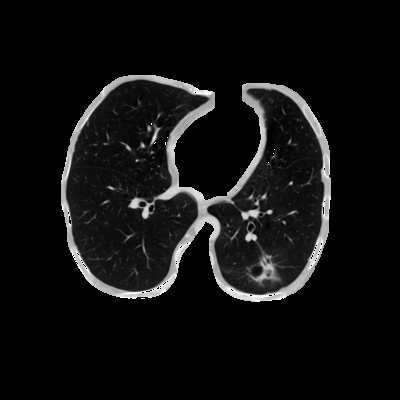PN: (254, 260, 274, 280)
